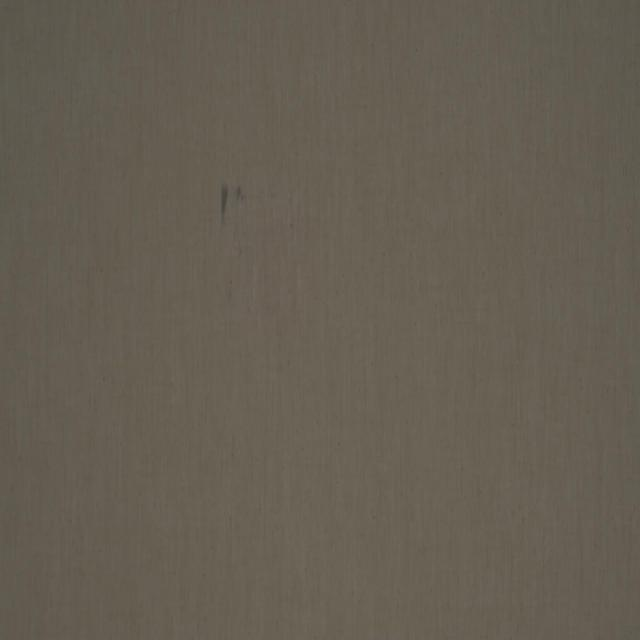dirty: (219, 185, 229, 227)
